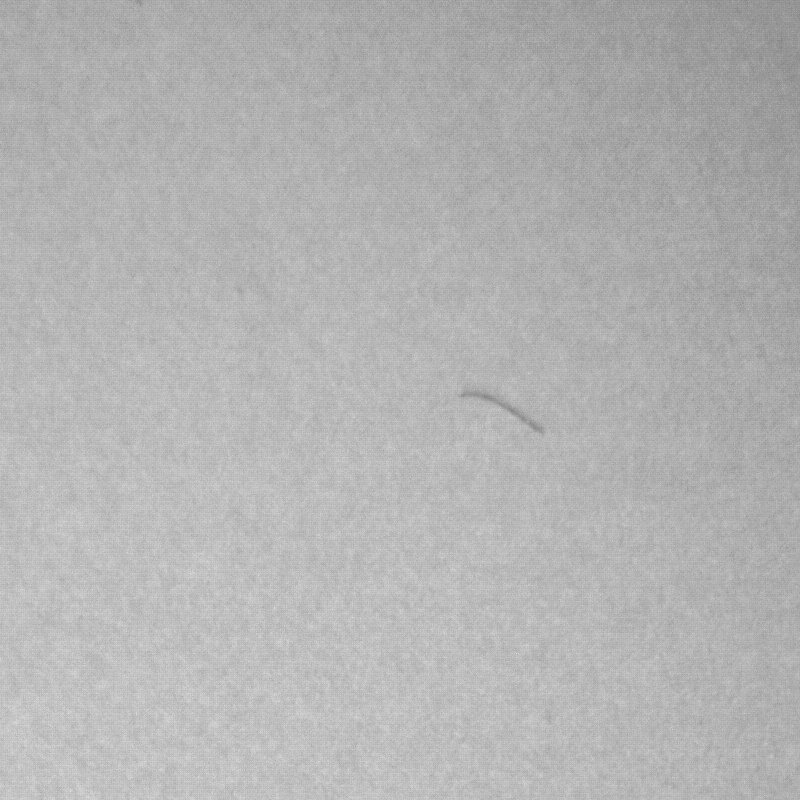defect: (459, 394, 546, 437)
